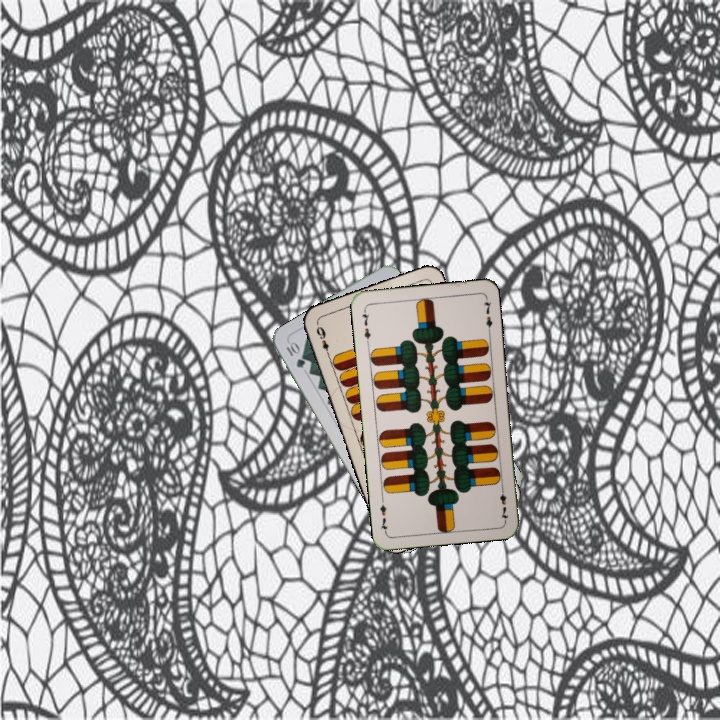E7: (496, 482, 511, 523), (358, 306, 373, 346)
E9: (312, 322, 333, 360)
G10: (282, 338, 308, 371)
